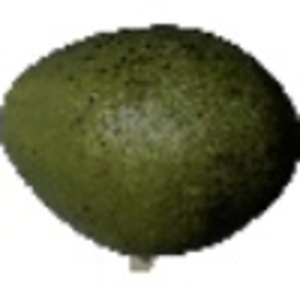abacate: (1, 22, 294, 257)
